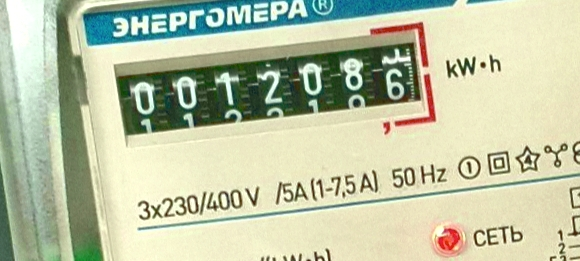0: (127, 76, 158, 118), (170, 72, 199, 112), (295, 59, 324, 98)
1: (212, 68, 238, 109)
2: (254, 66, 285, 107)
6: (378, 64, 406, 103)
8: (335, 54, 365, 94)
screen: (103, 13, 445, 171)
